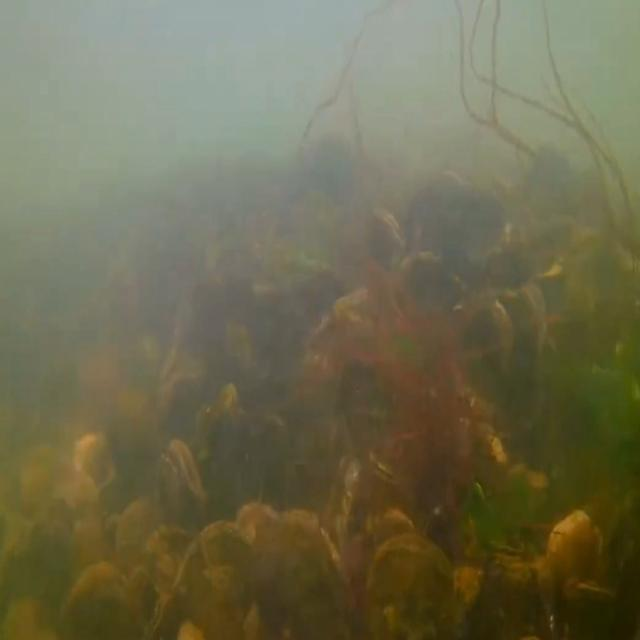Oyster-Closed: (538, 513, 606, 640), (370, 204, 406, 284)
Oyster-Indeterminate: (237, 499, 358, 640), (156, 518, 272, 640), (362, 533, 456, 640), (113, 502, 175, 633), (394, 253, 472, 331), (61, 558, 132, 640), (484, 284, 549, 354), (449, 302, 514, 371), (458, 413, 512, 463), (192, 380, 240, 429), (331, 291, 379, 336)
Oyster-Open: (146, 435, 207, 558), (324, 450, 364, 546), (364, 444, 405, 487)
